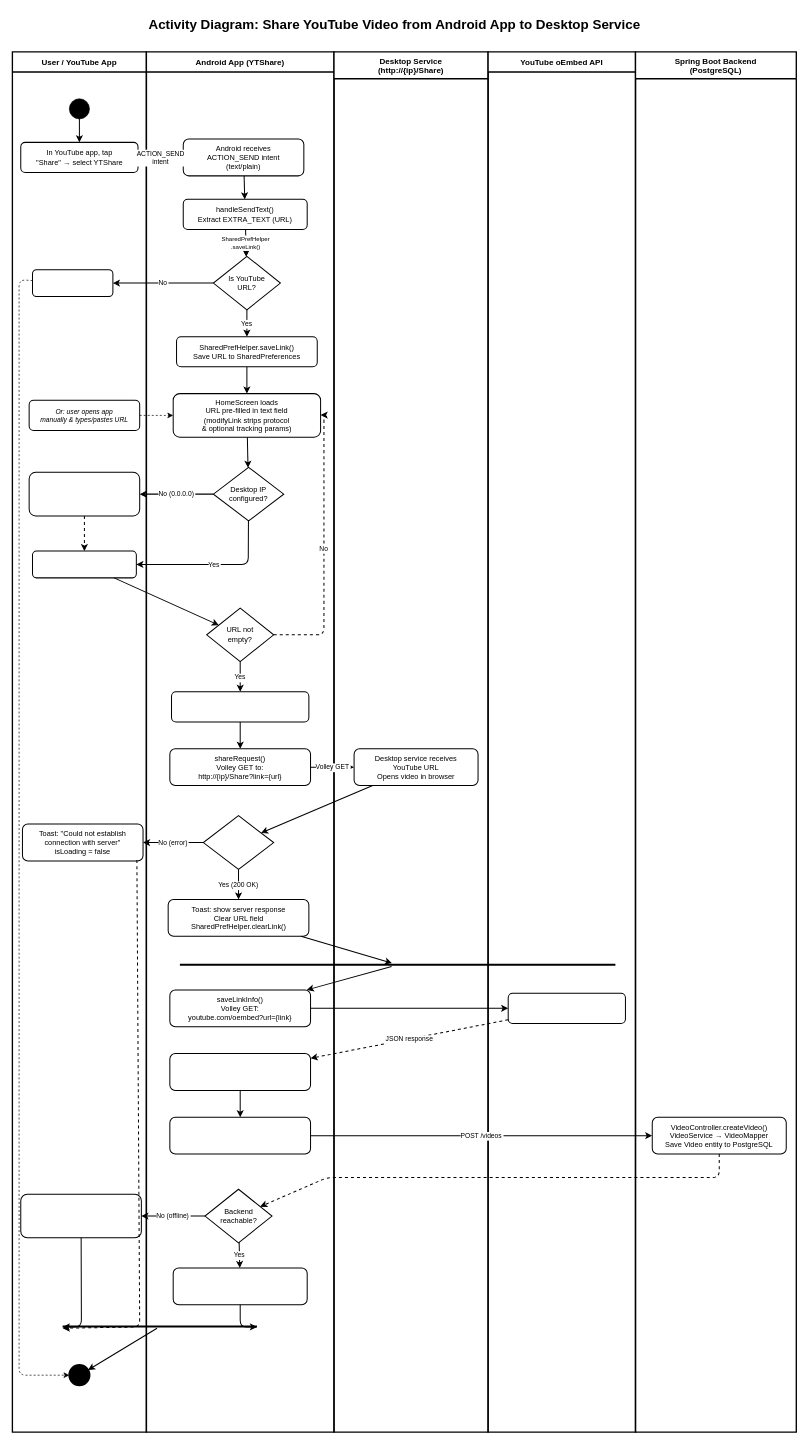
Some shapes in this 808 by 1444 pixel diagram are drawn without their labels. Here are the shapes that lost their labels. From the top down, the centre of each, then its label:
the point at 72,283: Ignore intent (not saved)
the point at 84,494: NSDHelper discovers backend via mDNS (_http._tcp.) Auto-select first host
the point at 84,564: User taps "Share" button
the point at 240,706: isLoading = true Show CircularProgressIndicator
the point at 238,842: Desktop responds?
the point at 566,1008: Return JSON: { title, thumbnail_url, ... }
the point at 240,1072: Parse JSON response Extract title (max 128 chars) Extract thumbnail_url
the point at 240,1135: VideoRepository.saveVideo() POST /videos { title, url, thumbnailUrl }
the point at 81,1215: Cache locally in Room (synced = false) Will sync later via syncUnsyncedVideos()
the point at 239,1286: Save to Room local DB (synced = true) Return VideoOutputDto
